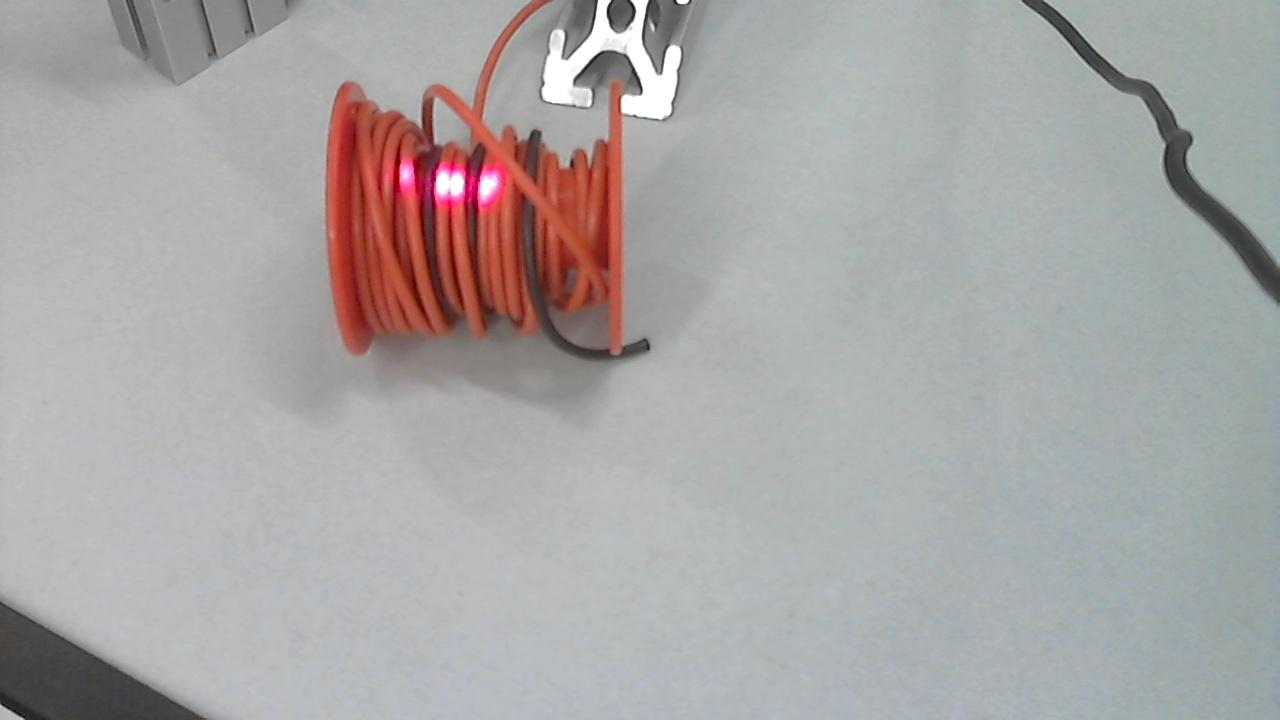Object wire spool - Material rubber - Color oranges - Pdfname ZryFz3DBSiO8: (386, 139, 538, 218)
